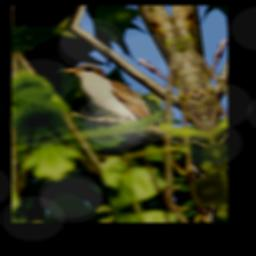Cuckoo: (55, 41, 211, 205)
